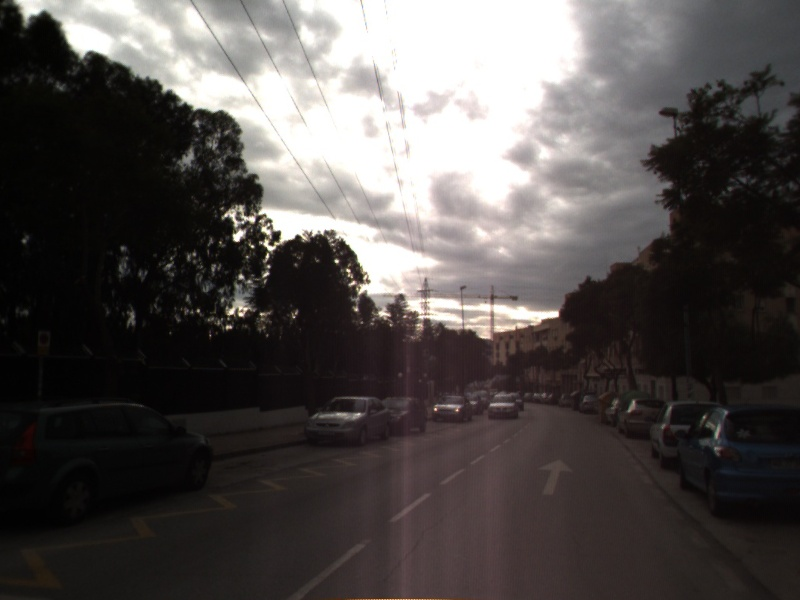STRAIGHT: (535, 457, 576, 497)
